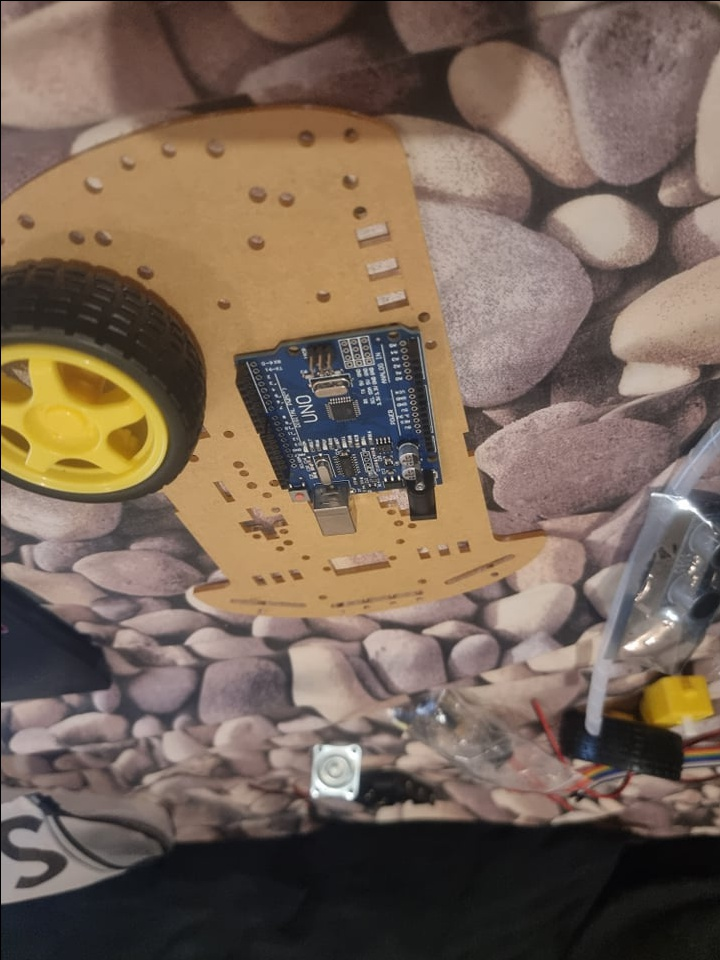BATTERY BOX: (353, 768, 433, 817)
UNO R3: (227, 320, 441, 538)
